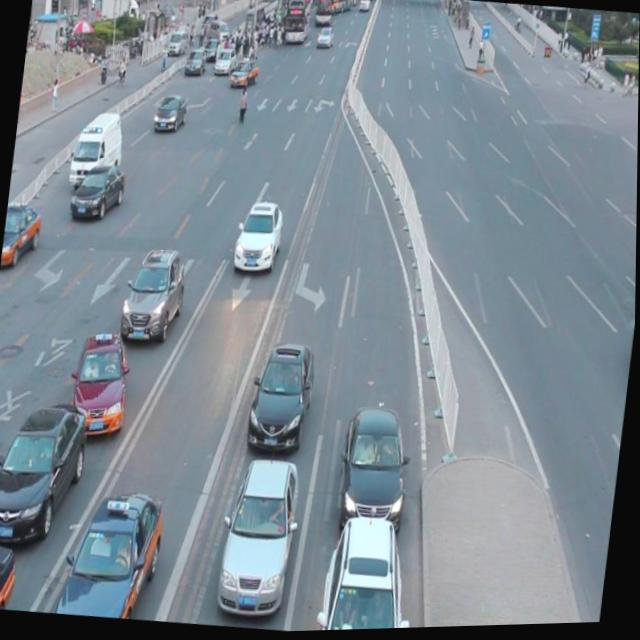car: (51, 482, 168, 624), (215, 455, 304, 625), (0, 393, 90, 552), (318, 512, 417, 632), (334, 403, 415, 540), (244, 340, 318, 458), (116, 244, 190, 350), (67, 329, 134, 442), (231, 196, 286, 278), (70, 160, 129, 222), (1, 199, 44, 271), (151, 92, 189, 135), (0, 538, 20, 610)
truck: (68, 108, 126, 190)
